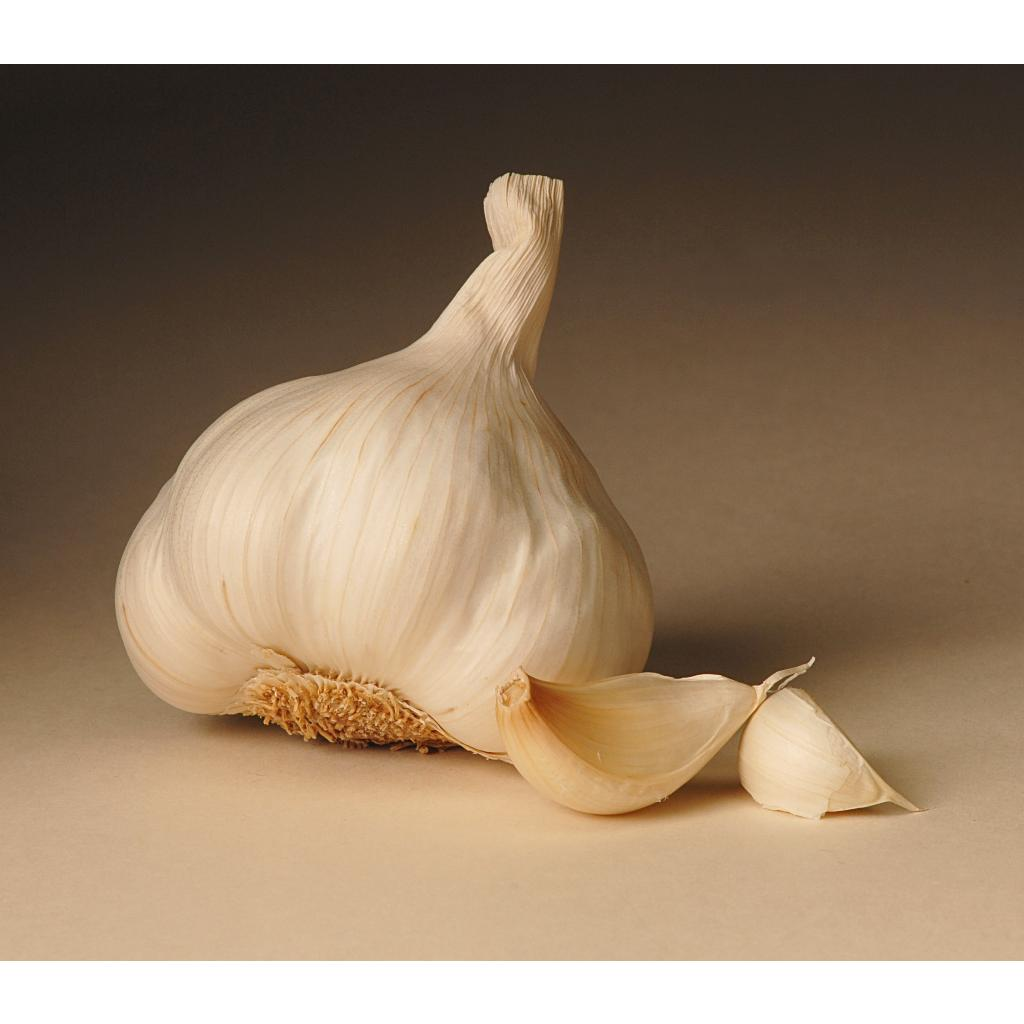garlic: (116, 173, 918, 819), (115, 172, 653, 752), (496, 658, 813, 813), (738, 687, 921, 818)
